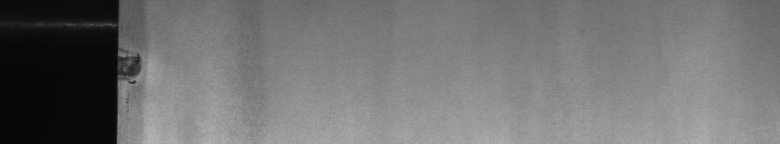hb: (128, 45, 152, 103)
